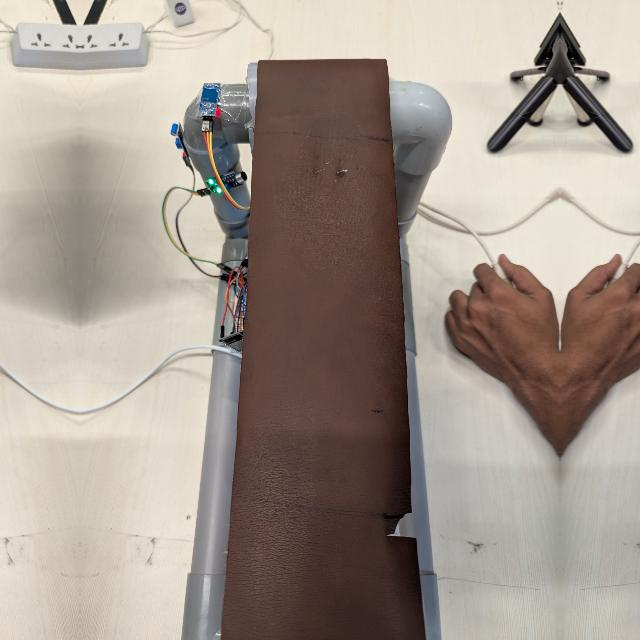belt_crack: (299, 145, 370, 184)
belt_tear: (367, 473, 427, 557)
